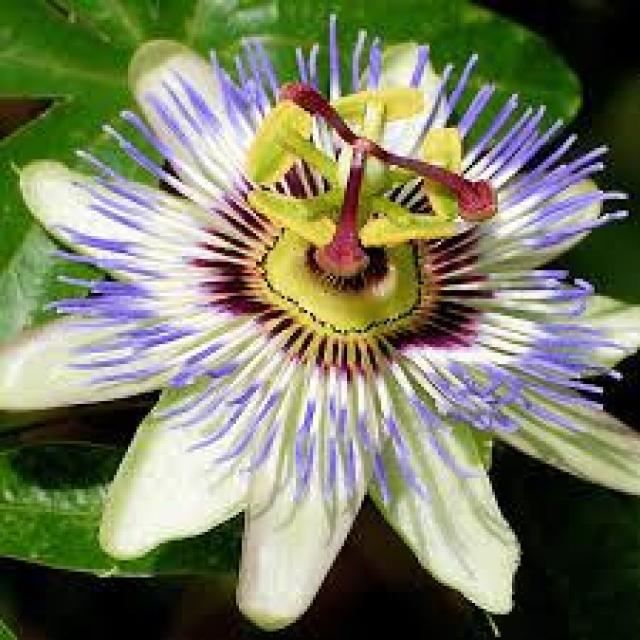organic waste: (20, 43, 631, 612)
